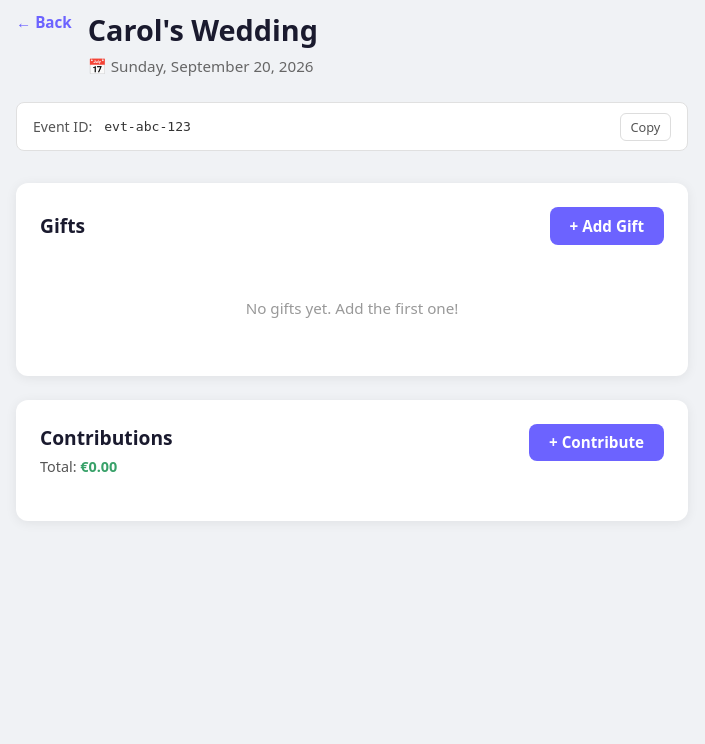
Test: Event Page — contributions › accumulates multiple contributions in the total
Click the button with test id "EventPage__contributeBtn" at (597, 443), box top-left (529, 424), bottom-right (664, 462)
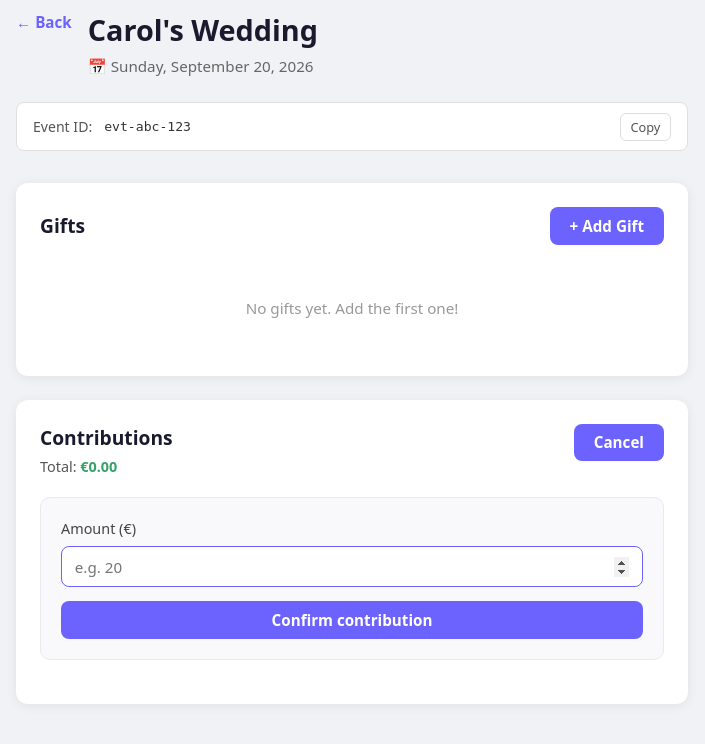
Type "10" into the number field with test id "EventPage__contributeAmountInput" at (352, 567), box top-left (61, 546), bottom-right (643, 587)
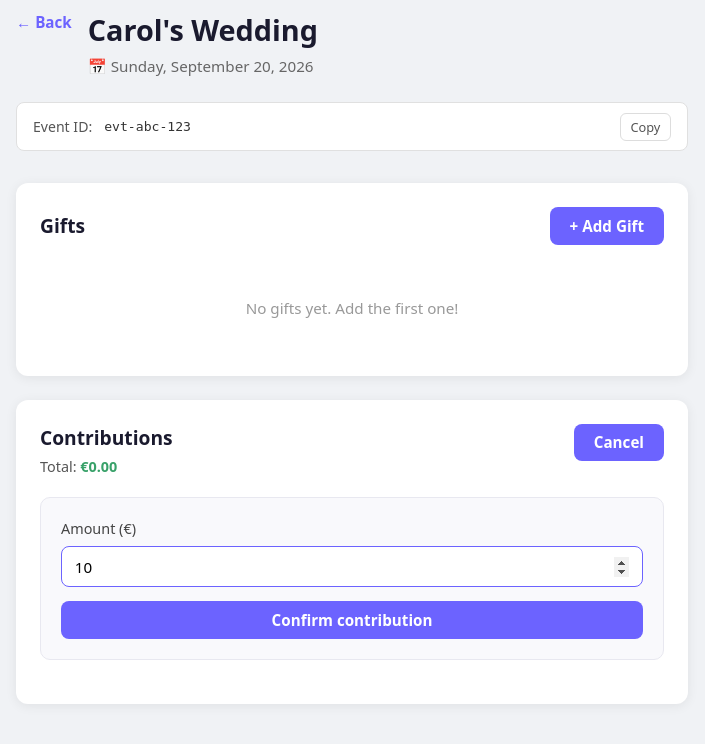
Click the button with test id "EventPage__contributeSubmit" at (352, 620), box top-left (61, 601), bottom-right (643, 639)
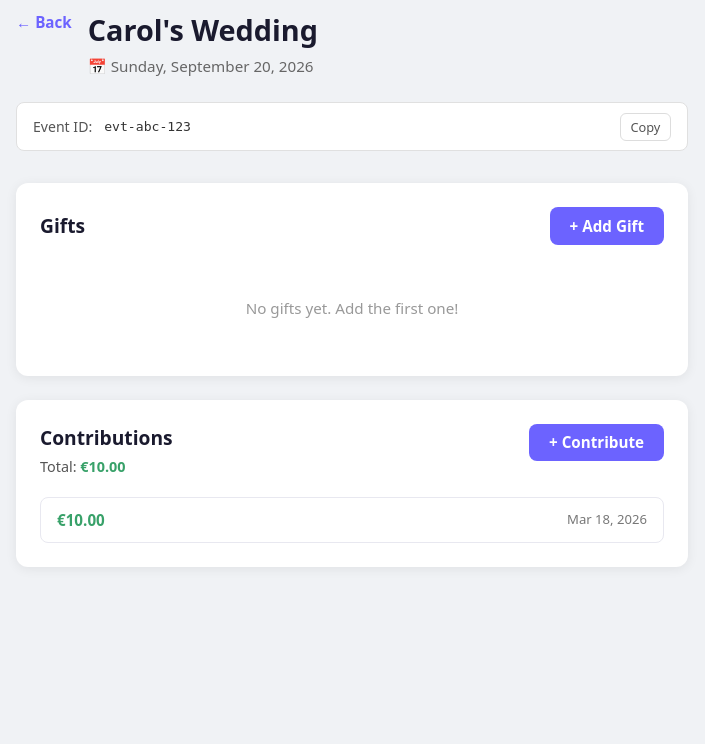
Click the button with test id "EventPage__contributeBtn" at (597, 443), box top-left (529, 424), bottom-right (664, 462)
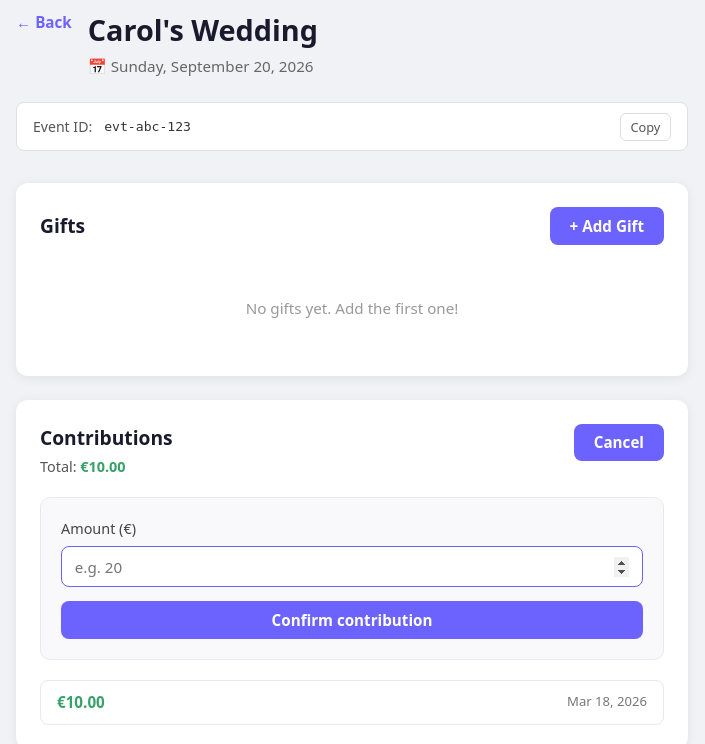
Type "15.50" into the number field with test id "EventPage__contributeAmountInput" at (352, 567), box top-left (61, 546), bottom-right (643, 587)
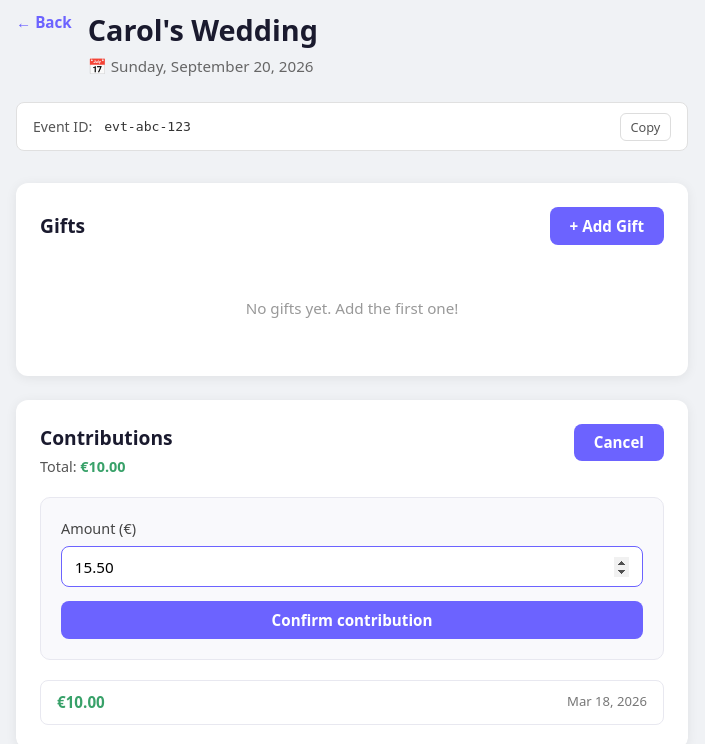
Click the button with test id "EventPage__contributeSubmit" at (352, 620), box top-left (61, 601), bottom-right (643, 639)
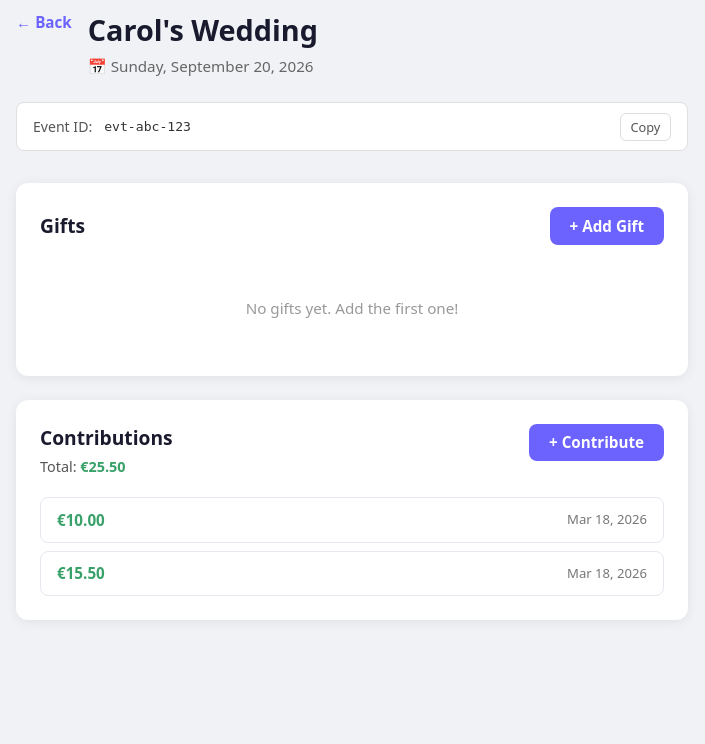
Now the text with test id "EventPage__contributionsTotal" reads "€25.50", box top-left (80, 457), bottom-right (125, 476)
Now the number of list items with test id "EventPage__contributionItem" is 2, box top-left (40, 497), bottom-right (664, 543); top-left (40, 551), bottom-right (664, 596)
